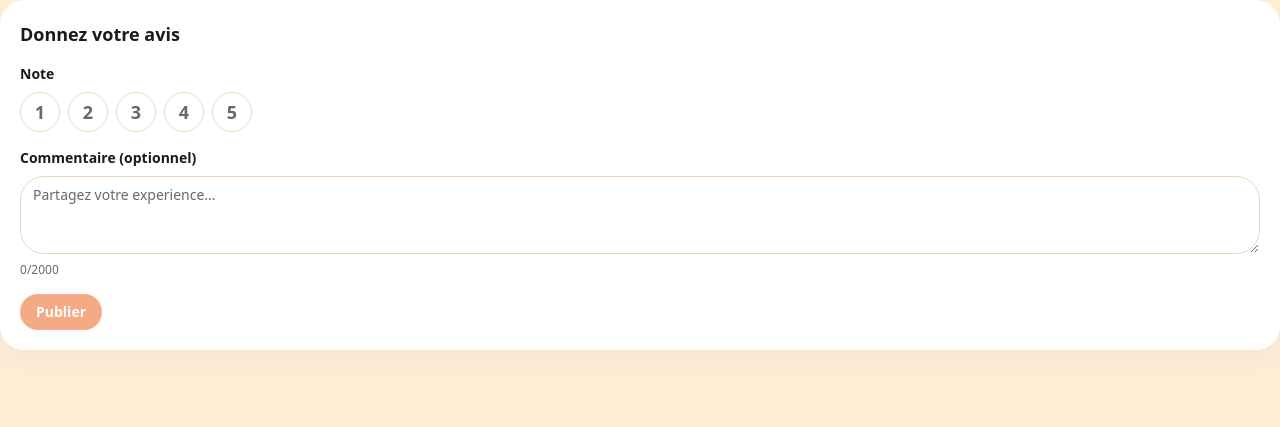
Test: ReviewForm › error states › shows error on API failure
Click the button named "3 etoiles".
click(136, 112)  # box [116,92,156,132]
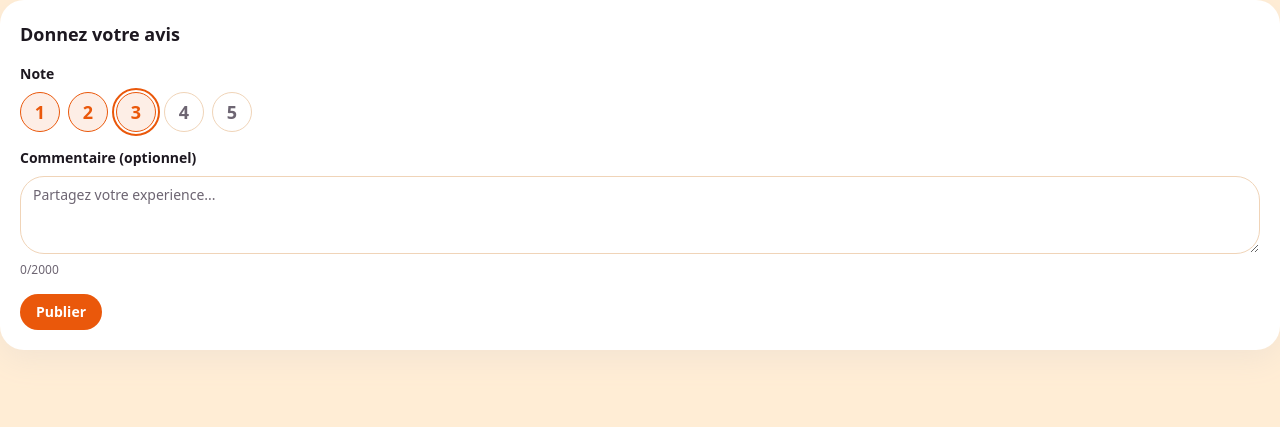
Click the button "Publier".
click(61, 312)  # box [20,294,102,330]
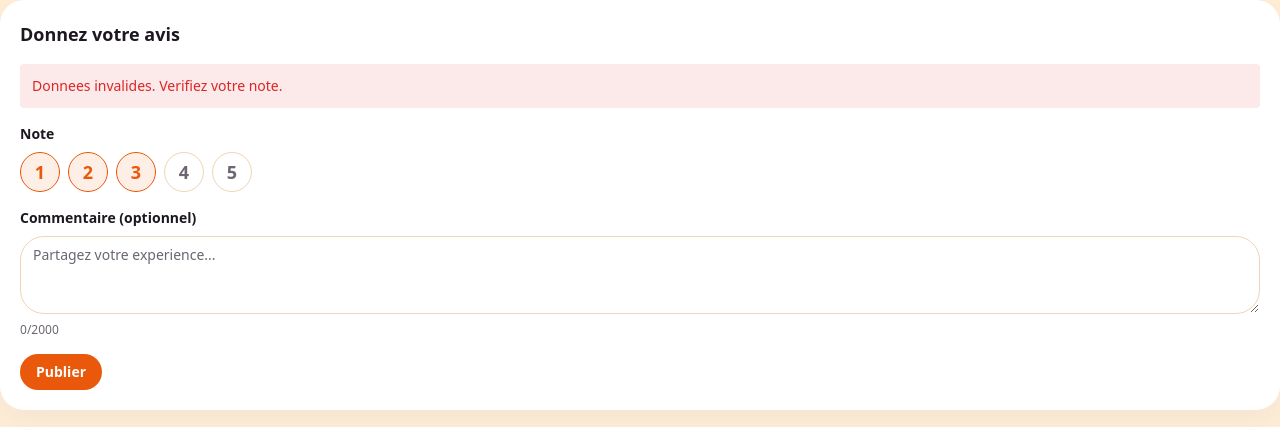
Now the message "Donnees invalides. Verifiez votre note." is shown, box [20,64,1260,108]
